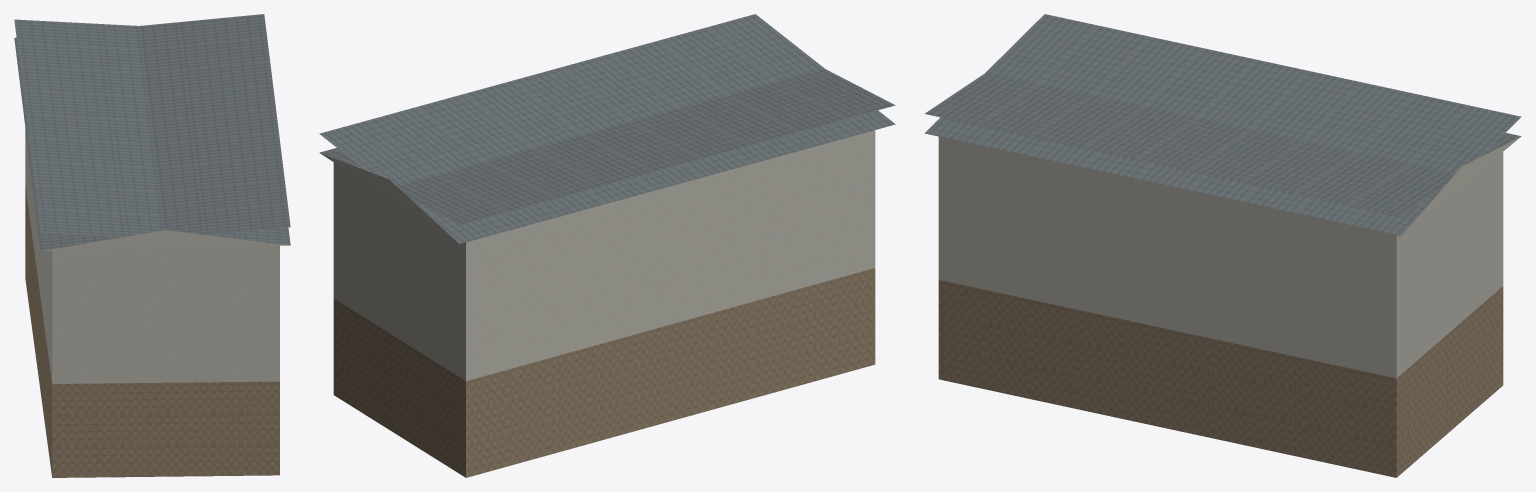
File: bld_c36_-25_440.gltf
3 renders of one model, left to right at view 1: azimuth 30°, elevation 25°; view 2: azimuth 150°, elevation 25°; view 3: azimuth 270°, elevation 25°, orthographic. The views are drawn at different scales.
Parts seen in each view (by area): view 1: bld_c36_-25_440; view 2: bld_c36_-25_440; view 3: bld_c36_-25_440.
Part boxes in pixels (x1,y1,x2,y2): bld_c36_-25_440: (14,14,290,477); bld_c36_-25_440: (319,14,895,477); bld_c36_-25_440: (924,14,1521,477).
Size of the model in its own units: 22.26 by 13.7 by 27.74.
4 materials, 4 textured.
